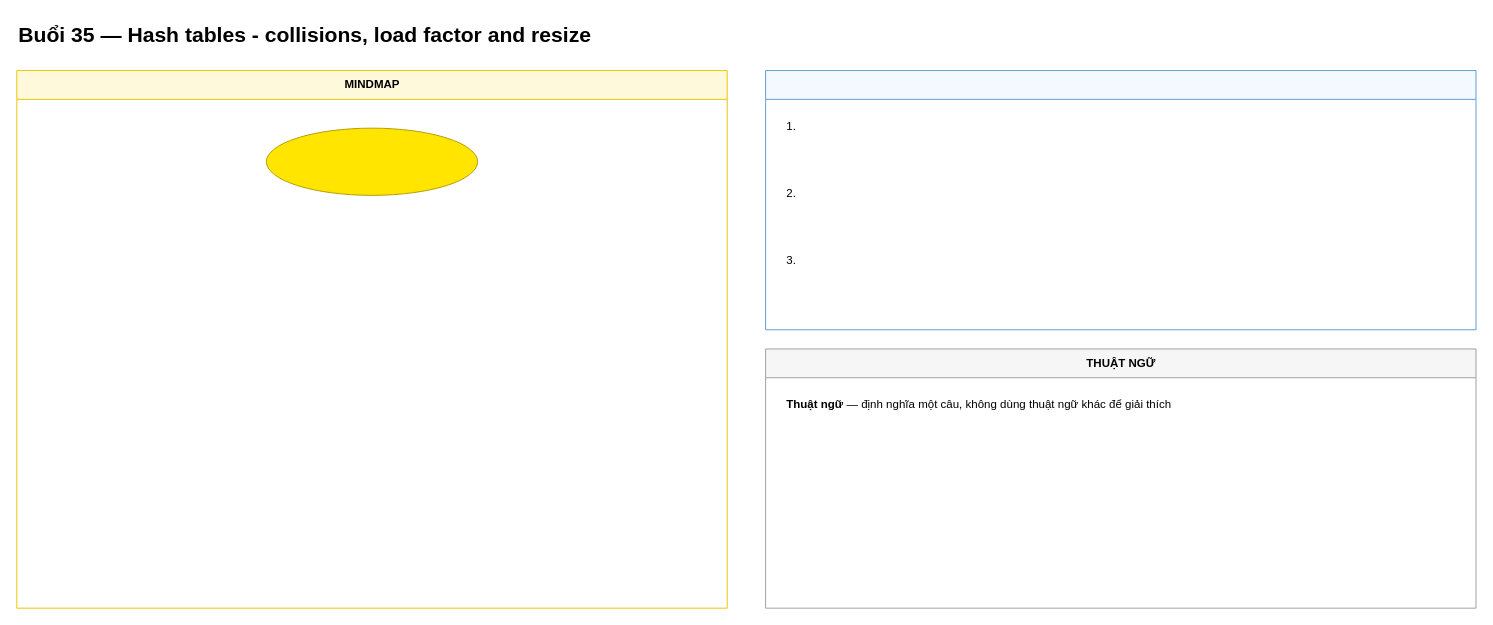
The diagram is 1493 pixels wide and 625 high, and some of its shapes have lost their labels. The shapes that lost their labels are listed below. From the top down, each one's box as (x1, y1, x2, y2) in pixels, then its label:
(265, 127, 478, 195): Hash tables - collisions, load factor and resize
(765, 70, 1476, 330): KEY TAKEAWAY — ba điều phải nhớ
